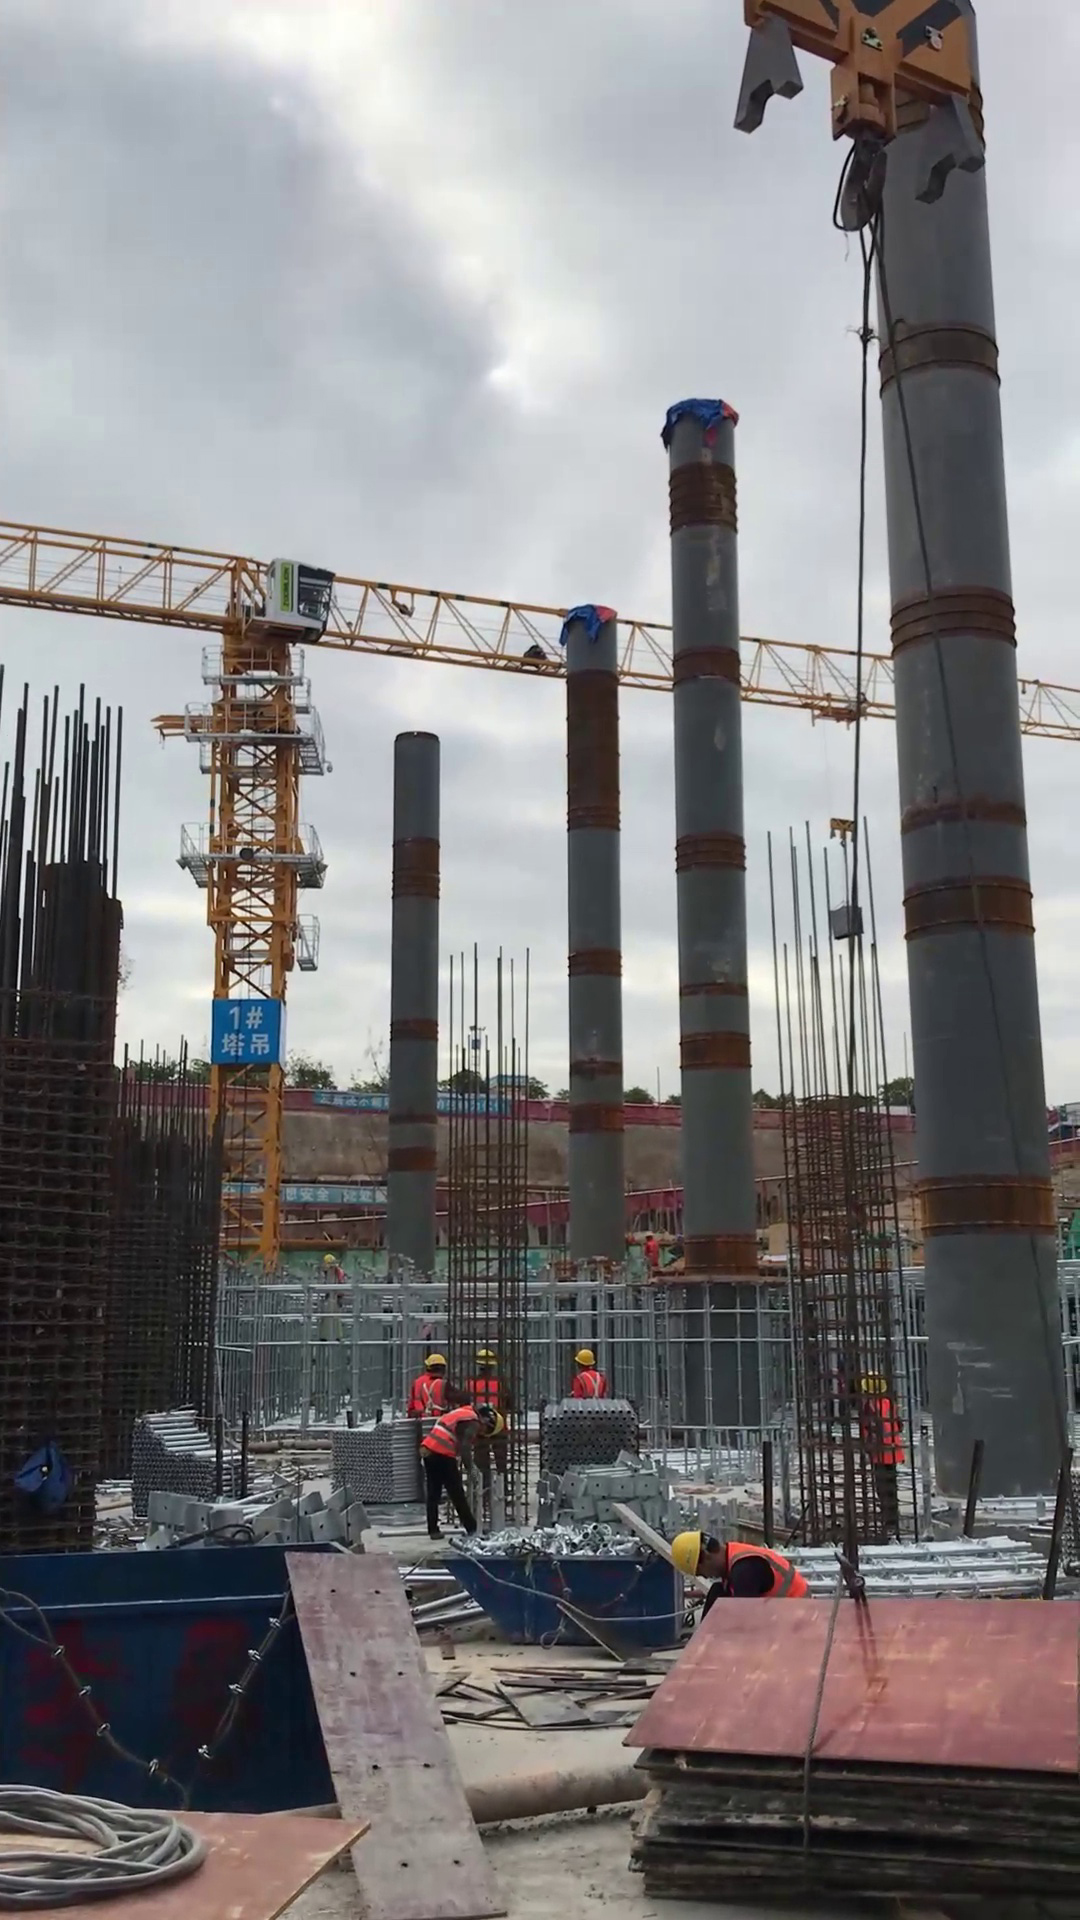board: (599, 1584, 1080, 1918)
helmet: (670, 1527, 708, 1587), (482, 1405, 509, 1441), (419, 1349, 449, 1370), (572, 1348, 598, 1367)
hook: (823, 808, 864, 856)
hopper: (1, 1546, 342, 1822), (449, 1539, 676, 1656)
person: (662, 1526, 816, 1646), (415, 1400, 520, 1545), (397, 1349, 471, 1424), (564, 1343, 608, 1405)
scaffold: (124, 1403, 240, 1525), (536, 1394, 643, 1483), (326, 1415, 418, 1511)
slogan: (277, 1181, 388, 1207), (313, 1089, 390, 1113)
vest: (723, 1538, 812, 1613), (423, 1402, 484, 1460), (410, 1368, 452, 1417), (573, 1370, 607, 1401)
